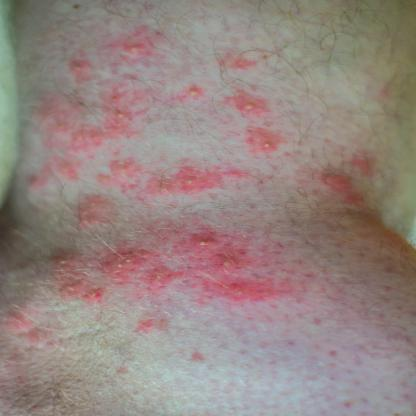Fire ant: (22, 90, 148, 196), (56, 249, 178, 306), (185, 232, 281, 302), (320, 154, 386, 212), (152, 164, 265, 196), (111, 24, 158, 60), (5, 310, 46, 350), (69, 198, 115, 232), (225, 90, 267, 116), (244, 130, 282, 154), (217, 53, 258, 73), (66, 54, 92, 82), (131, 320, 167, 336), (177, 84, 208, 102), (189, 350, 209, 366)
